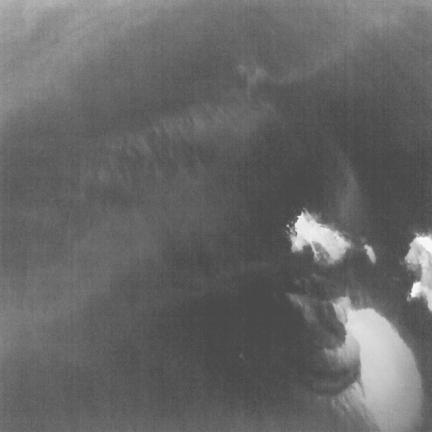flukeprints: (347, 308, 423, 431), (287, 211, 354, 266), (404, 235, 431, 312), (362, 245, 374, 262)
